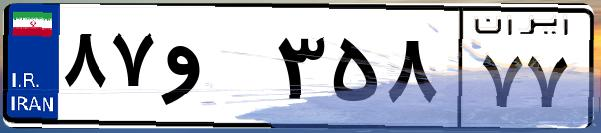3: (270, 28, 330, 110)
5: (330, 28, 385, 110)
7: (475, 38, 525, 113), (525, 38, 570, 115), (110, 28, 158, 98)
8: (385, 28, 445, 110), (57, 26, 110, 100)
و: (158, 20, 270, 120)
